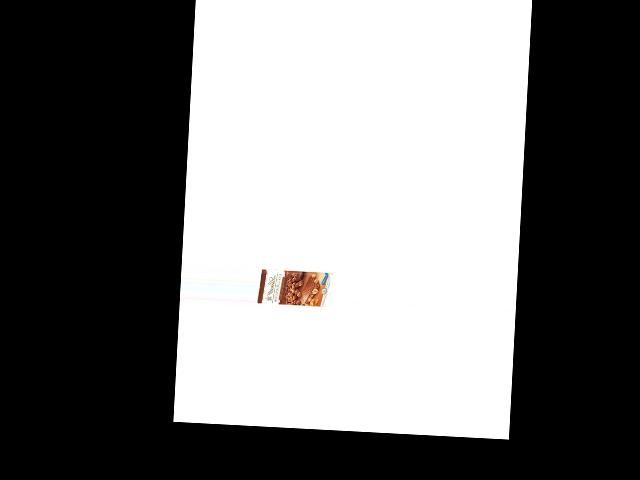chocolate: (259, 266, 329, 312)
